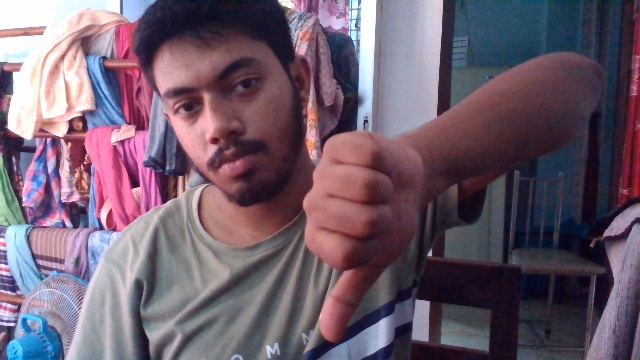no: (282, 115, 420, 345)
